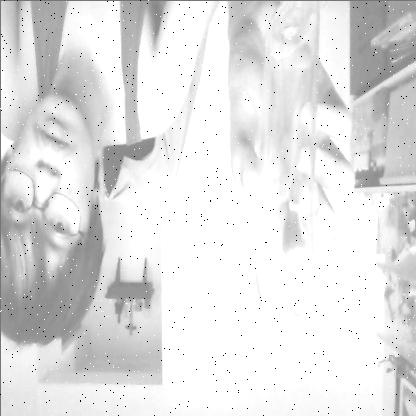Plastic Bottle: (250, 0, 321, 388)
